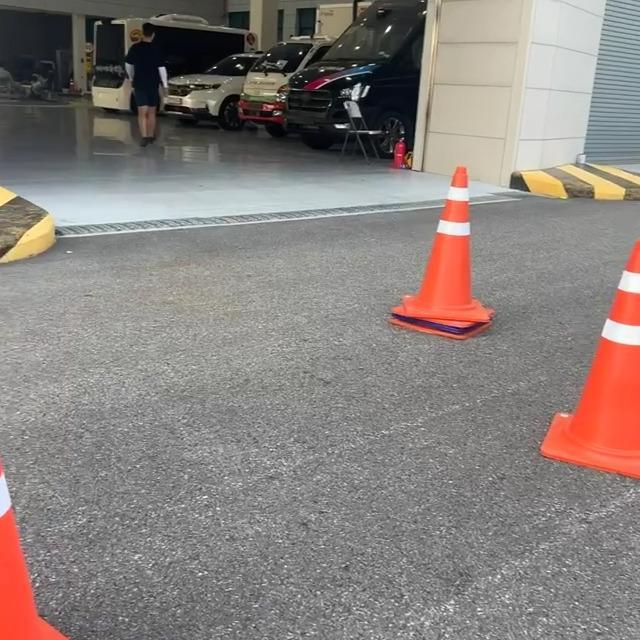fallen_object: (549, 190, 640, 594), (0, 427, 100, 640), (382, 147, 502, 311)
